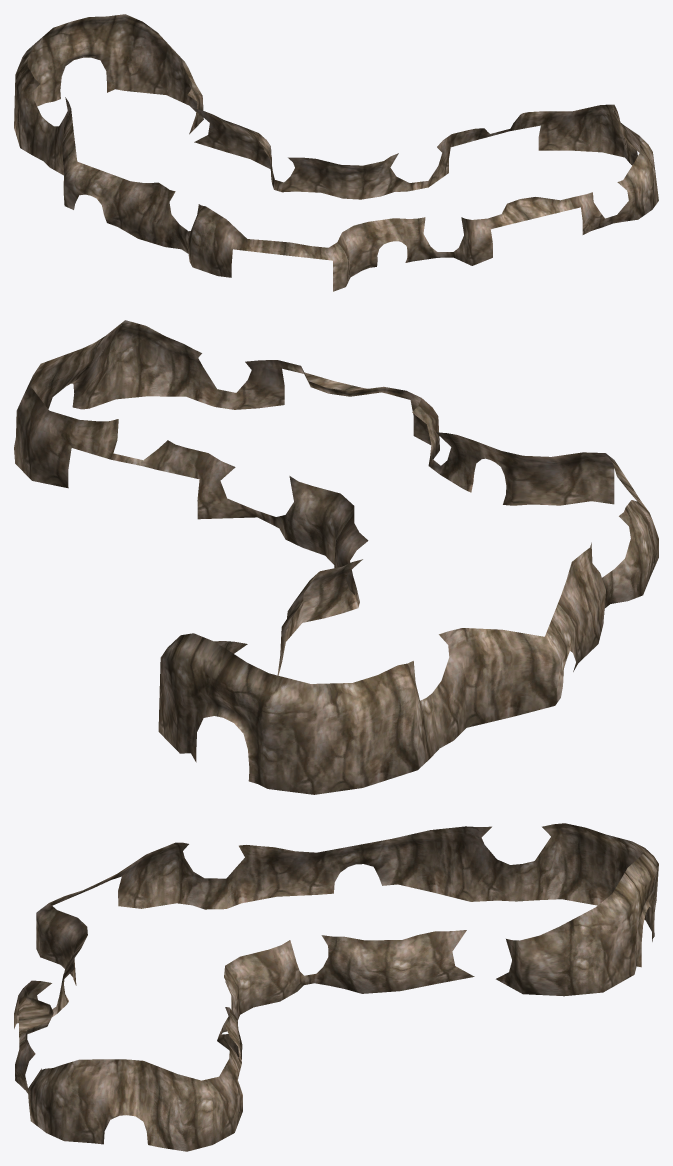
Rendered from EKH_JAIL_PS_JA_MAIN_TOP_WALL646473.fbx.
3 renders of one model, top to bottom at view 1: azimuth 30°, elevation 25°; view 2: azimuth 150°, elevation 25°; view 3: azimuth 270°, elevation 25°, orthographic. The views are drawn at different scales.
Visible parts, largest first — view 1: EKH_JAIL_PS_JA_MAIN_TOP_WALL646473; view 2: EKH_JAIL_PS_JA_MAIN_TOP_WALL646473; view 3: EKH_JAIL_PS_JA_MAIN_TOP_WALL646473.
Part boxes in pixels (left/top/right/bottom): EKH_JAIL_PS_JA_MAIN_TOP_WALL646473: left=14, top=14, right=658, bottom=291; EKH_JAIL_PS_JA_MAIN_TOP_WALL646473: left=14, top=320, right=658, bottom=794; EKH_JAIL_PS_JA_MAIN_TOP_WALL646473: left=14, top=823, right=658, bottom=1151.
Size of the model in its own units: 270976 by 47044 by 275510.
1 material, 1 textured.
